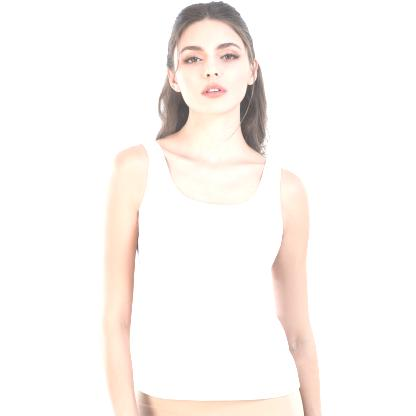jacket: (125, 139, 301, 402)
